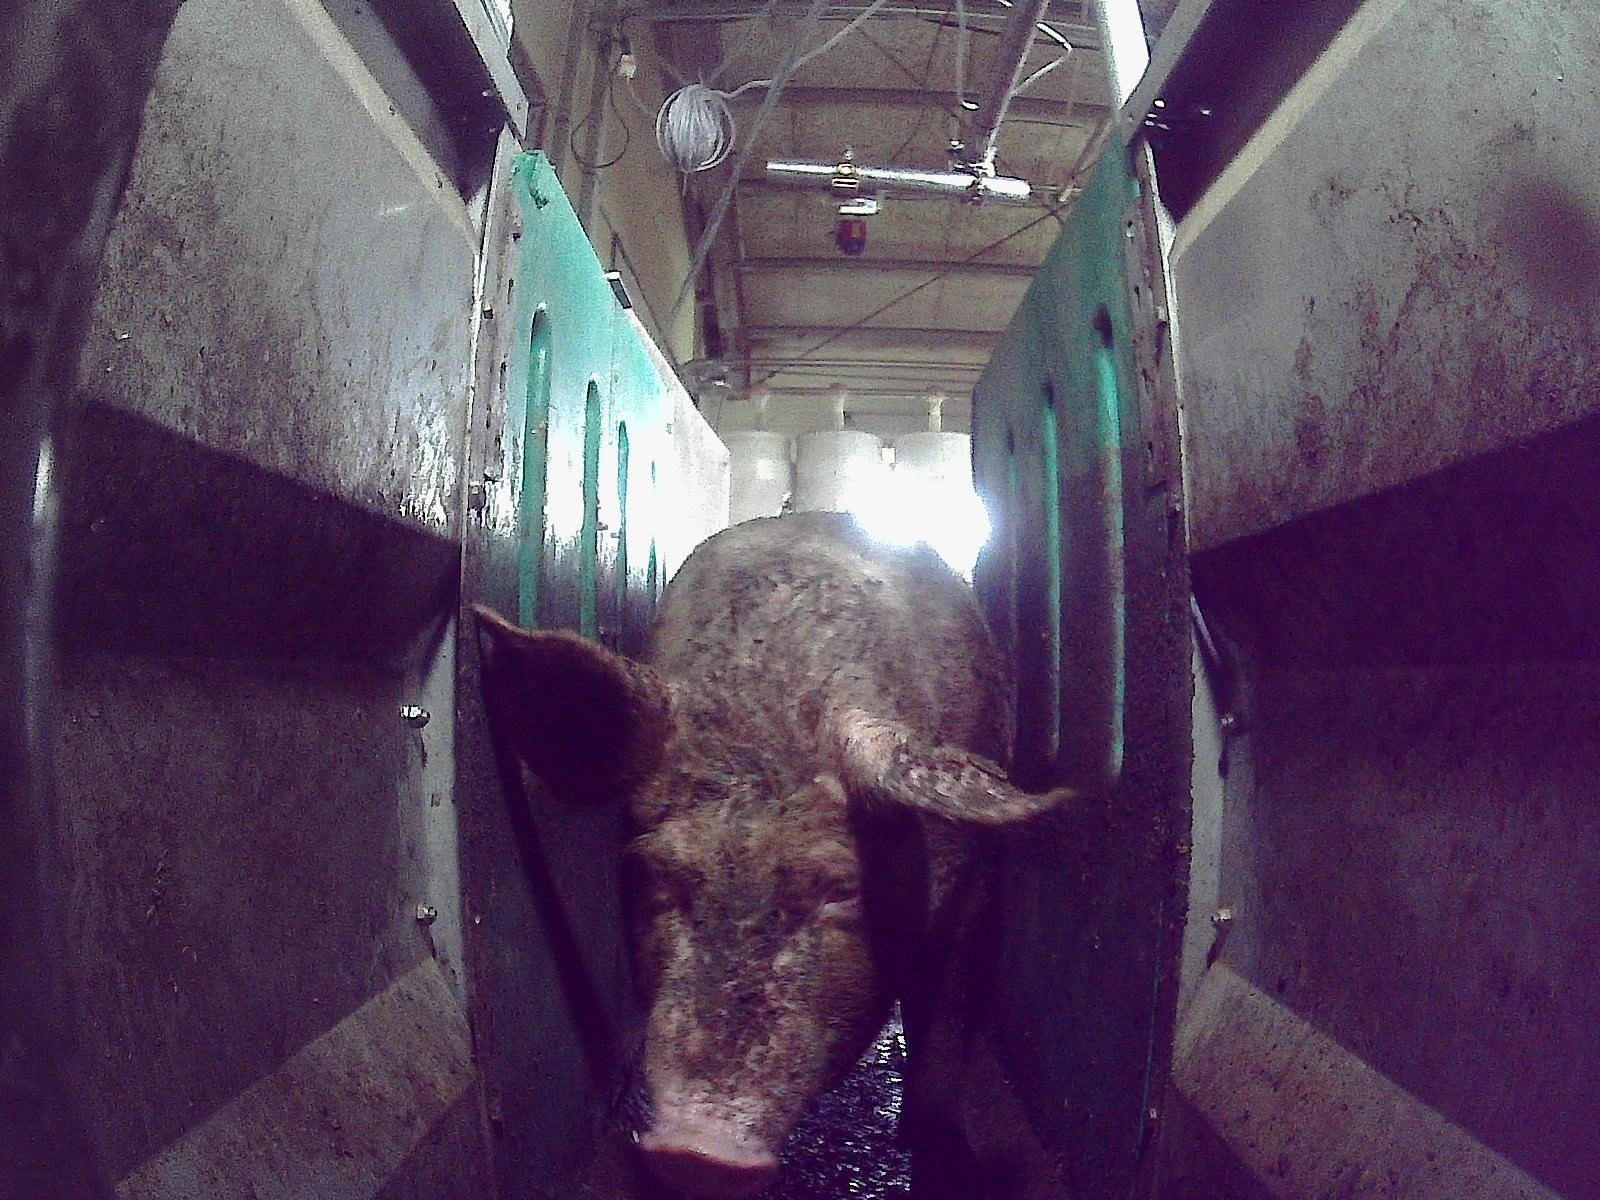Face: (617, 716, 910, 1199)
